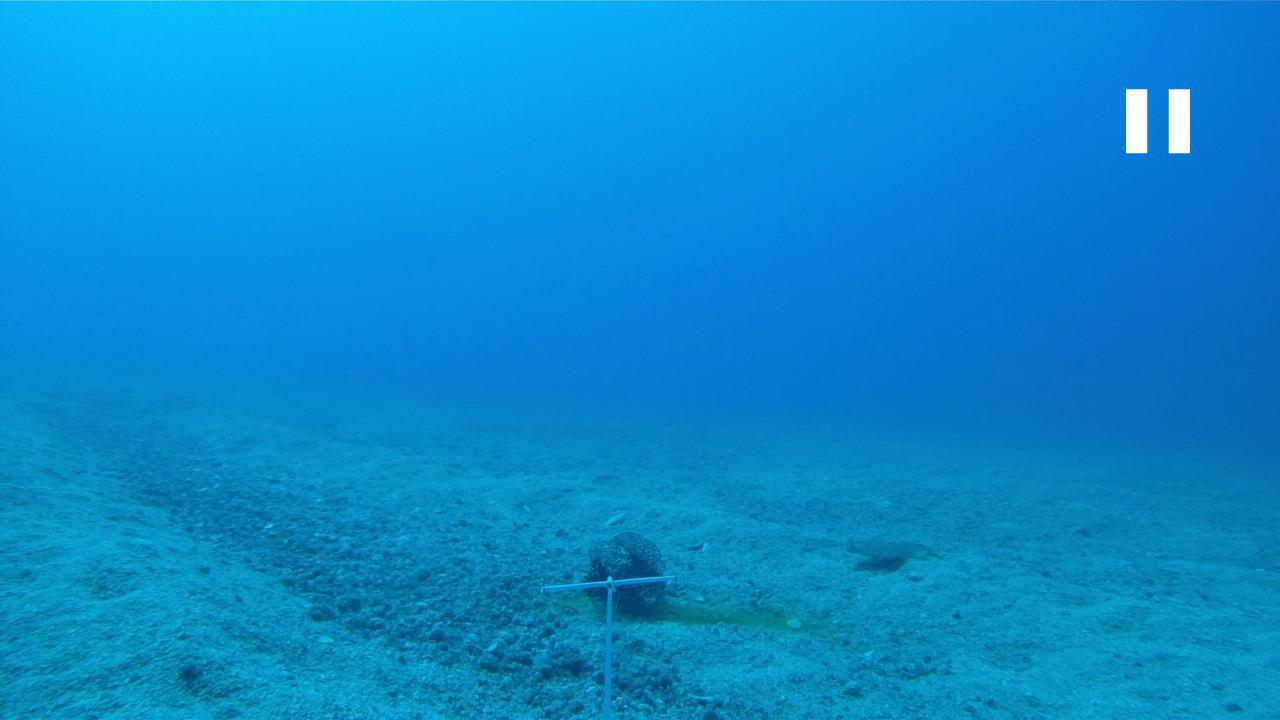bothus: (838, 530, 929, 565)
